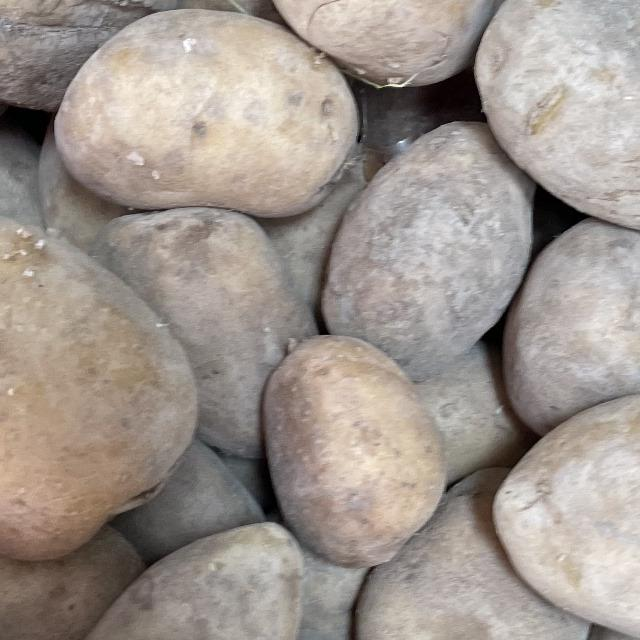potato: (0, 190, 210, 542), (38, 2, 372, 220), (248, 322, 470, 582), (0, 497, 350, 640), (465, 0, 640, 245), (485, 387, 640, 640), (260, 0, 545, 107)
